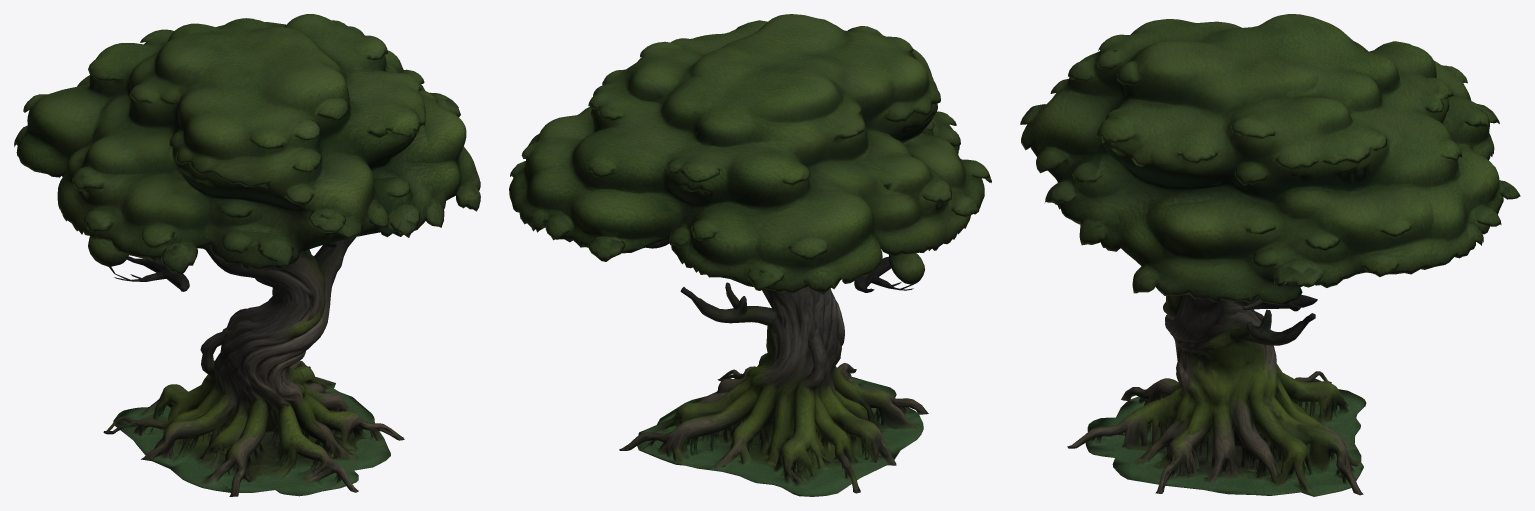
3 renders of one model, left to right at view 1: azimuth 30°, elevation 25°; view 2: azimuth 150°, elevation 25°; view 3: azimuth 270°, elevation 25°, orthographic. The views are drawn at different scales.
Parts seen in each view (by area): view 1: node_0; view 2: node_0; view 3: node_0.
Boxes of the visible parts, x1=… form: node_0: x1=14, y1=14, x2=480, y2=496; node_0: x1=509, y1=14, x2=991, y2=496; node_0: x1=1020, y1=14, x2=1520, y2=496.
Bounding box in the file's own units: 0.9793 × 0.8824 × 1.
Materials: 1 (1 with a texture image).
